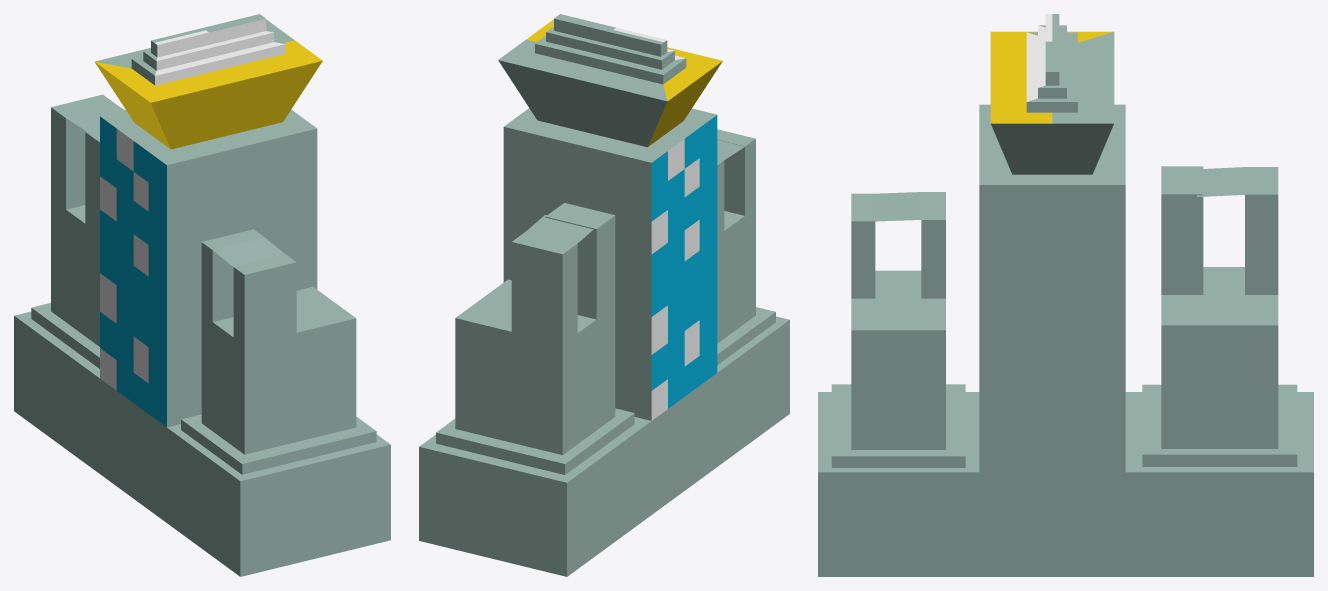
Rendered from BUILD 6 INFRAS.fbx.
3 renders of one model, left to right at view 1: azimuth 30°, elevation 25°; view 2: azimuth 150°, elevation 25°; view 3: azimuth 270°, elevation 25°, orthographic. The views are drawn at different scales.
Visible parts, largest first — view 1: BUILD MONAS; view 2: BUILD MONAS; view 3: BUILD MONAS.
Part boxes in pixels (x1,y1,x2,y2): BUILD MONAS: [14, 14, 390, 576]; BUILD MONAS: [419, 14, 789, 576]; BUILD MONAS: [818, 14, 1313, 576].
Size of the model in its own units: 1942 by 4855 by 4420.
